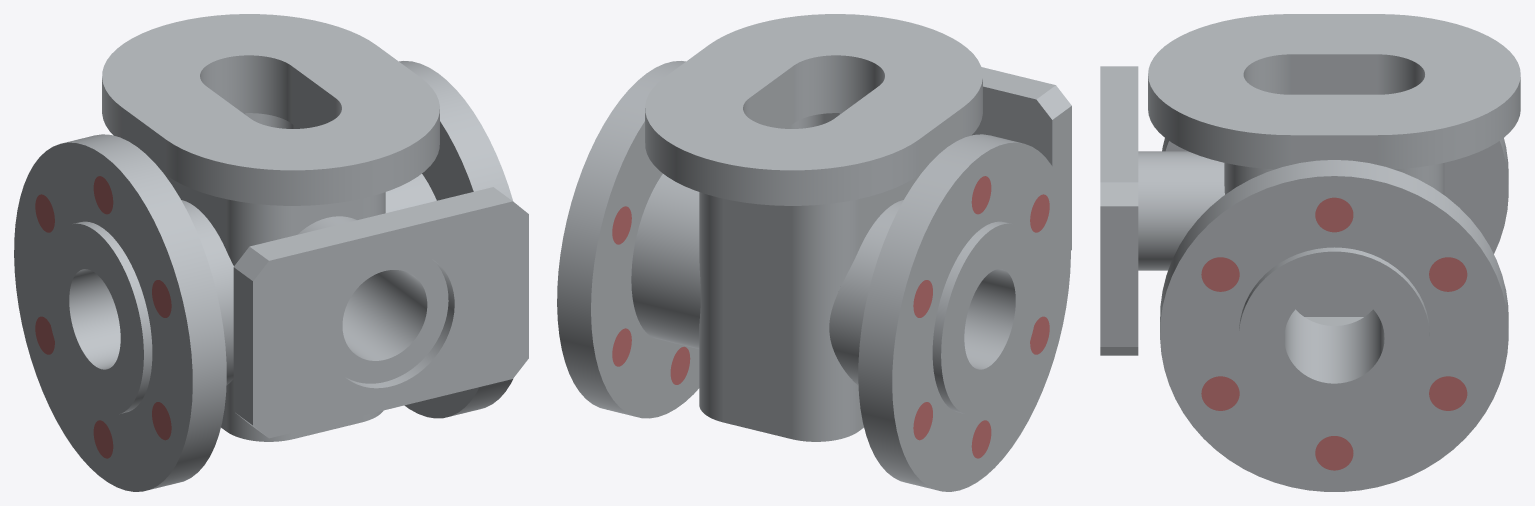
File: step_11.glb
The picture shows the model from 3 angles, left to right: view 1: azimuth 30°, elevation 25°; view 2: azimuth 150°, elevation 25°; view 3: azimuth 270°, elevation 25°; orthographic projection. The views are drawn at different scales.
Parts seen in each view (by area): view 1: part__valve body, removed__valve body; view 2: part__valve body, removed__valve body; view 3: part__valve body, removed__valve body.
Boxes of the visible parts, <box> form: part__valve body: <box>14,14,528,491</box>; removed__valve body: <box>35,176,171,458</box>; part__valve body: <box>557,14,1071,491</box>; removed__valve body: <box>612,176,1049,458</box>; part__valve body: <box>1100,14,1520,491</box>; removed__valve body: <box>1201,197,1467,470</box>.
Size of the model in its own units: 166 by 156 by 176.
